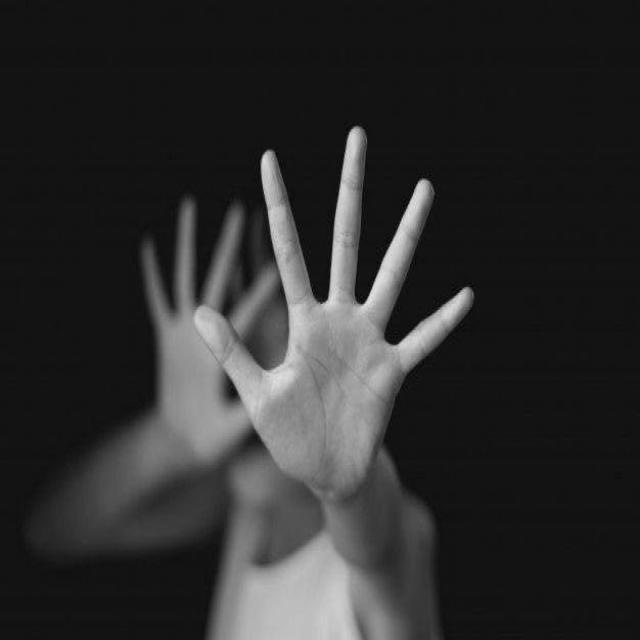stop: (191, 119, 477, 505)
